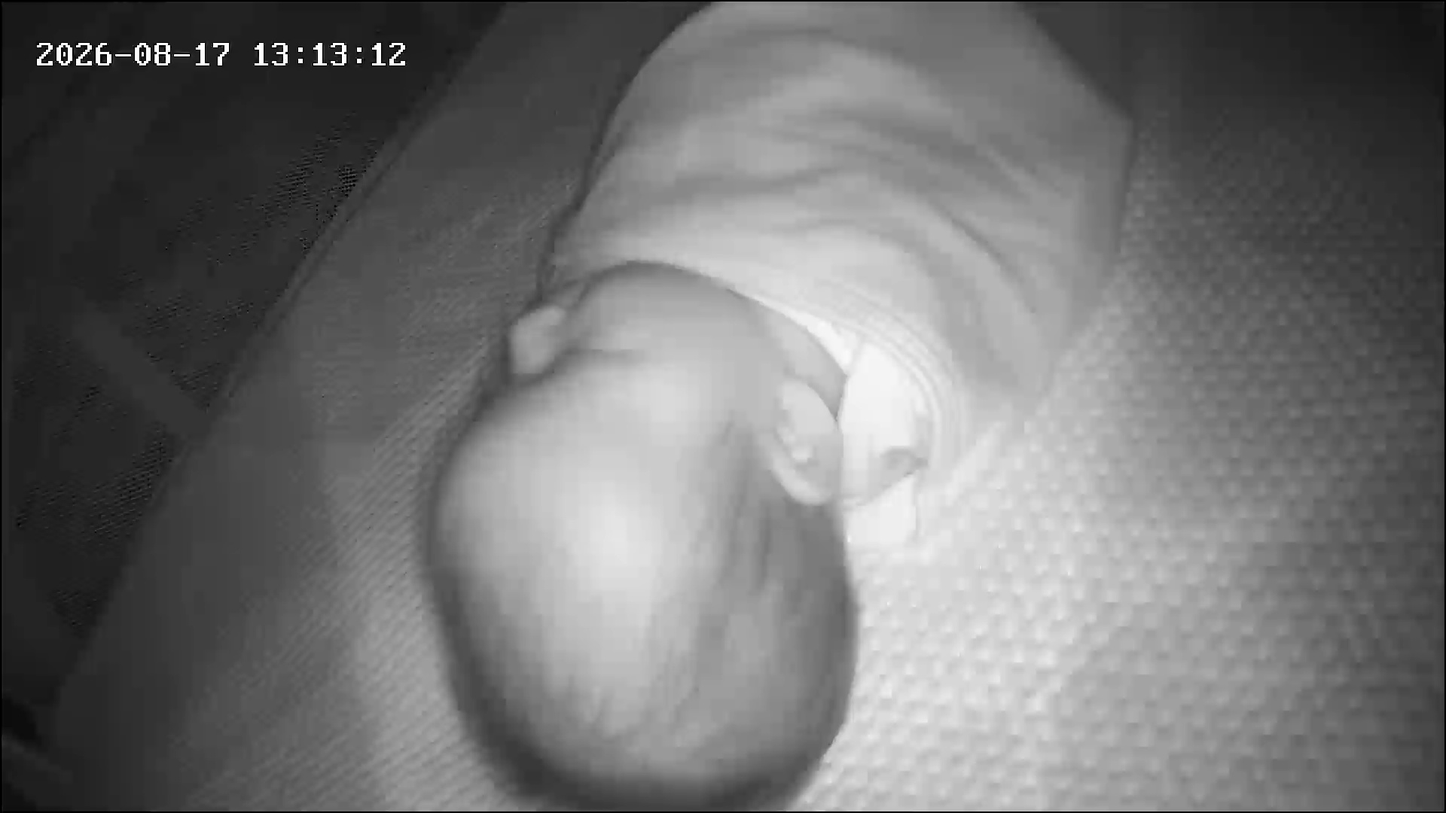baby: (0, 5, 920, 809), (404, 0, 1142, 805)
baby_face: (415, 255, 878, 809)
